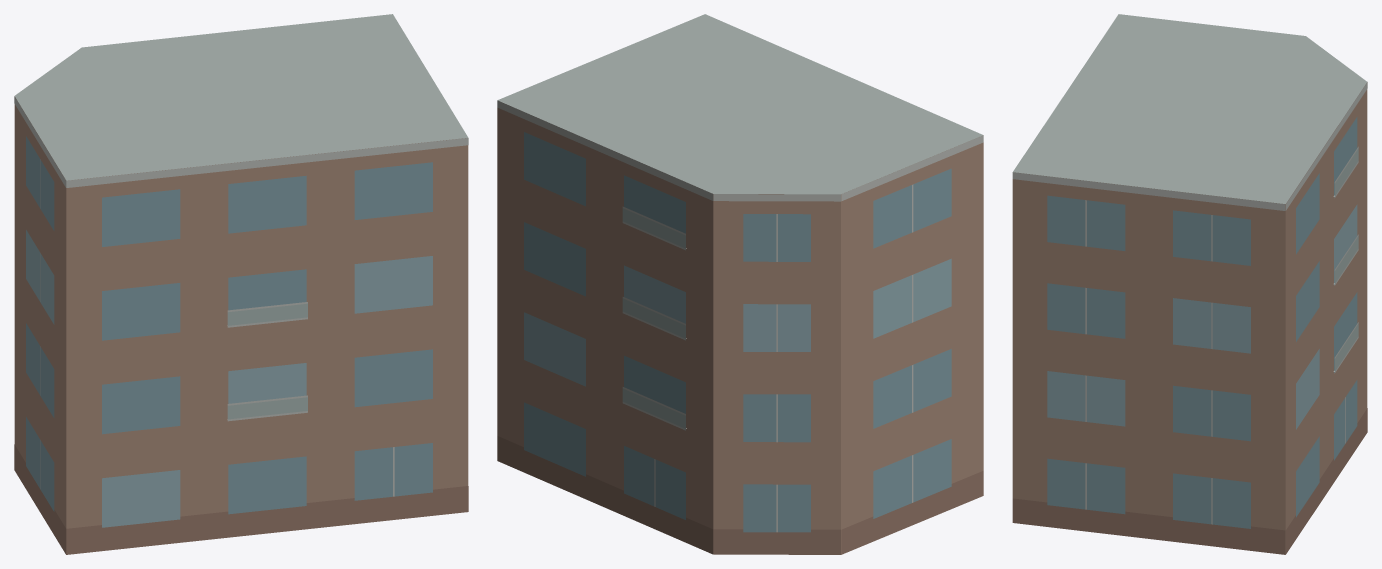
The model's file is survey-upis-32875418.glb.
3 views of the same model, side by side, from view 1: azimuth 30°, elevation 25°; view 2: azimuth 150°, elevation 25°; view 3: azimuth 270°, elevation 25° (orthographic). The views are drawn at different scales.
Parts seen in each view (by area): view 1: survey-upis-32875418.tmp; view 2: survey-upis-32875418.tmp; view 3: survey-upis-32875418.tmp.
Boxes of the visible parts, x1,y1,x2,y2 form: survey-upis-32875418.tmp: (14,14,468,554); survey-upis-32875418.tmp: (497,14,983,554); survey-upis-32875418.tmp: (1012,14,1367,554).
Size of the model in its own units: 14.19 by 12.2 by 11.19.
